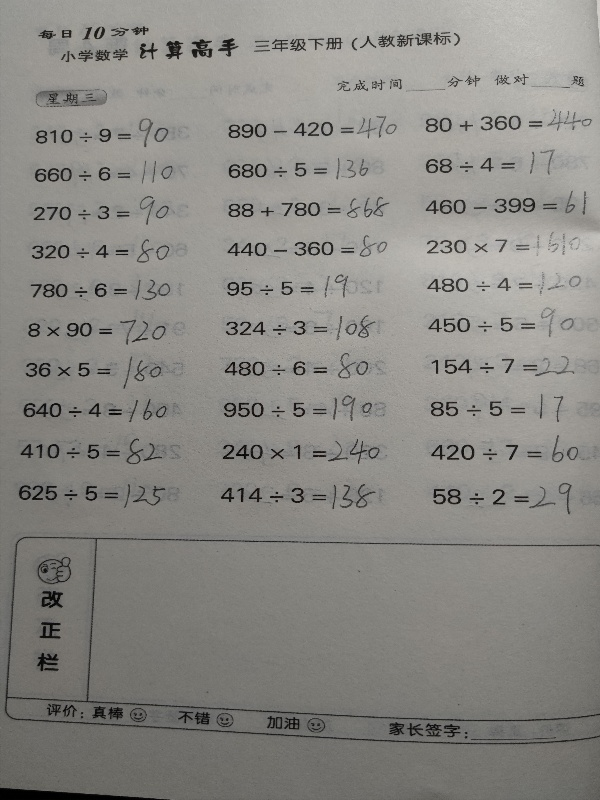equation: (428, 477, 581, 517), (217, 478, 382, 513), (424, 390, 574, 428), (224, 231, 391, 265), (425, 304, 578, 341), (423, 224, 584, 258), (221, 390, 377, 425), (421, 186, 590, 218), (215, 436, 389, 467), (25, 312, 174, 348), (17, 478, 179, 511), (212, 314, 384, 345), (219, 351, 375, 385), (18, 396, 174, 430), (224, 115, 400, 145), (28, 113, 178, 148), (30, 155, 180, 190), (421, 105, 595, 135), (428, 436, 586, 469), (20, 356, 174, 388), (223, 194, 392, 223), (424, 268, 585, 298), (29, 196, 174, 229), (14, 439, 176, 468), (25, 236, 181, 266), (421, 352, 589, 379), (224, 154, 372, 184), (421, 146, 565, 176), (27, 277, 180, 305), (224, 274, 359, 302)
